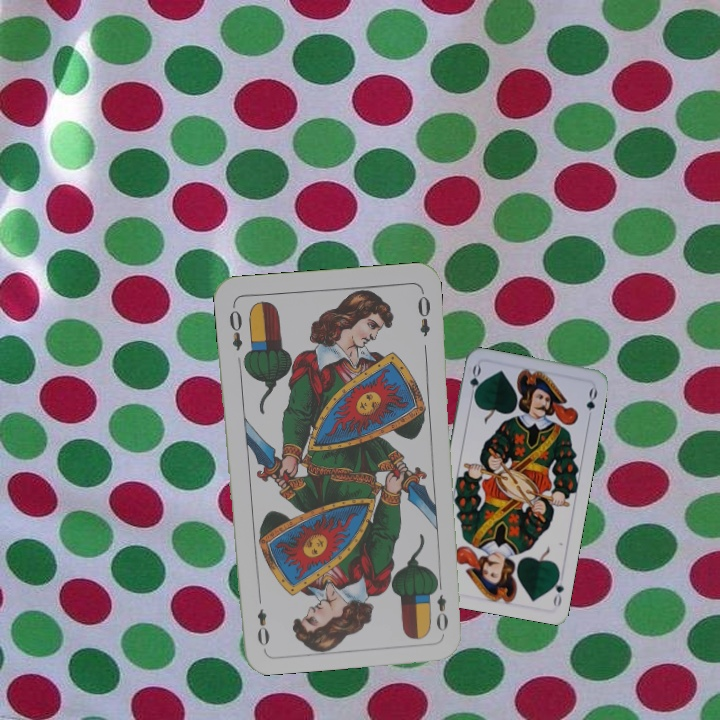EO: (429, 576, 451, 634), (225, 301, 245, 353)
GO: (466, 361, 484, 403), (548, 568, 566, 609)
